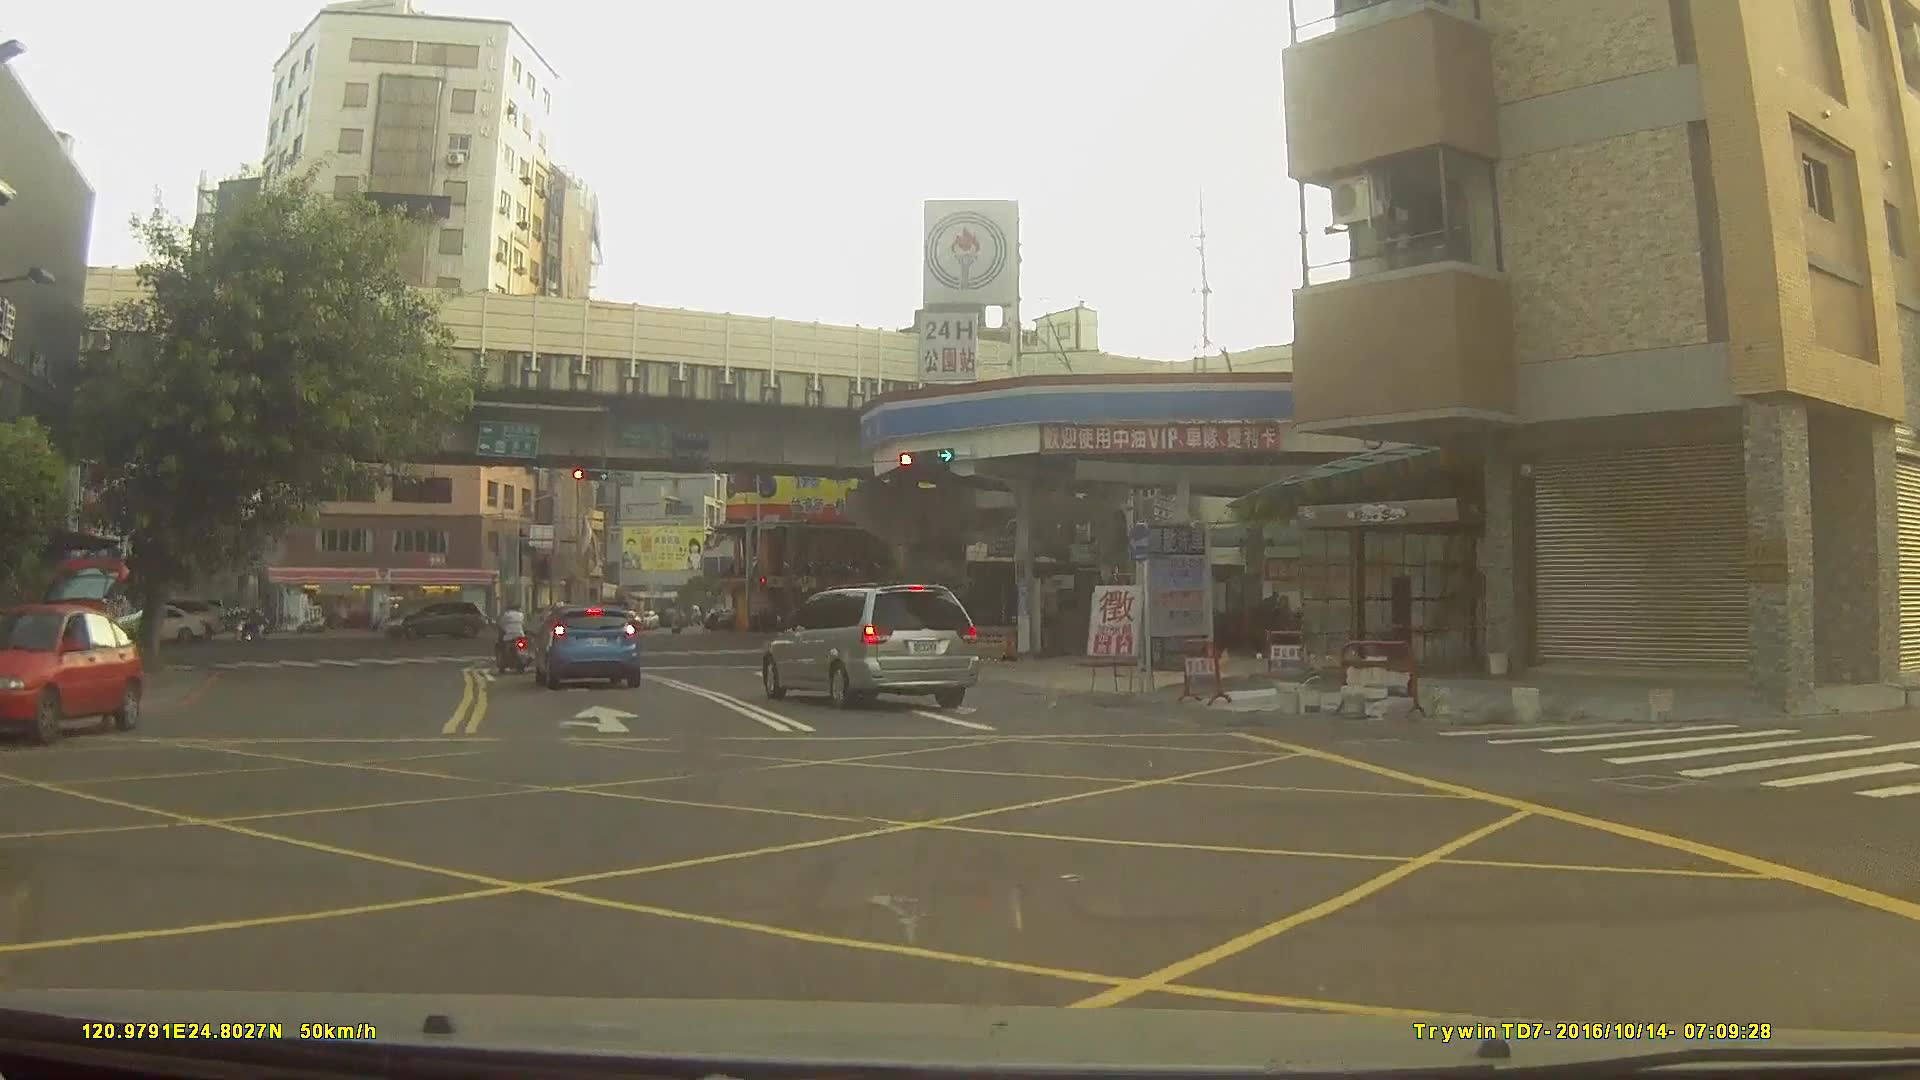rider: (495, 603, 532, 675), (236, 618, 264, 651)
vehicle: (763, 581, 980, 709), (0, 600, 142, 745), (534, 605, 640, 690), (110, 599, 207, 644), (380, 599, 484, 638), (531, 604, 610, 642)
